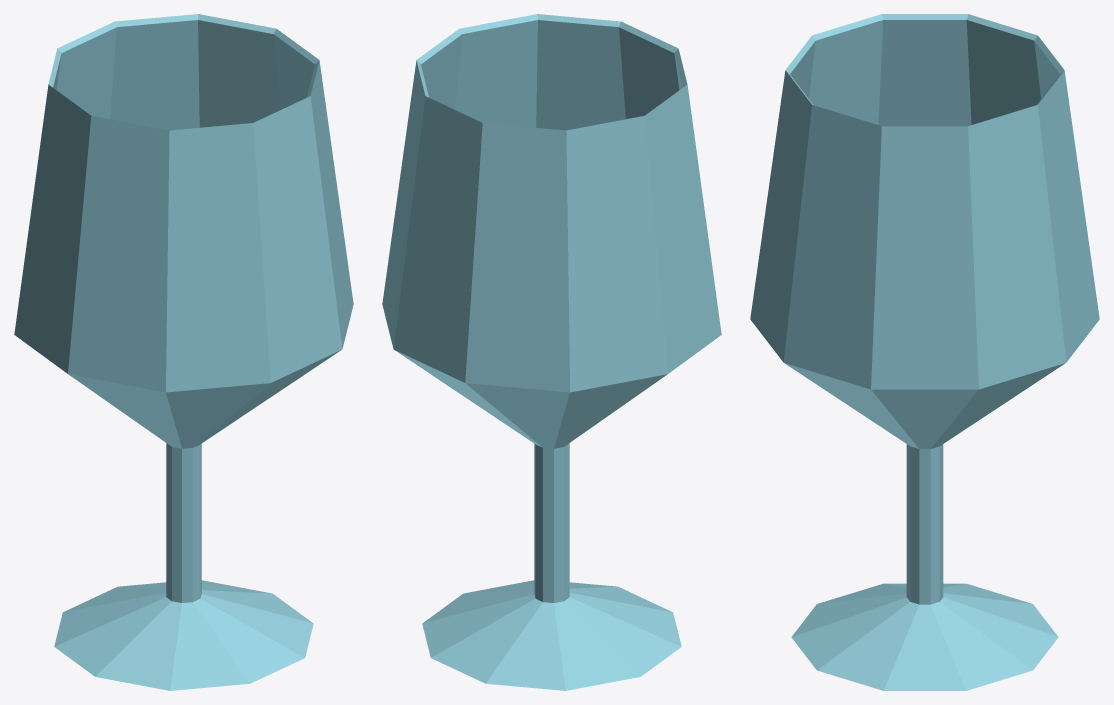
The model's file is wineglass.fbx.
3 views of the same model, side by side, from view 1: azimuth 30°, elevation 25°; view 2: azimuth 150°, elevation 25°; view 3: azimuth 270°, elevation 25° (orthographic).
Parts seen in each view (by area): view 1: wine glass; view 2: wine glass; view 3: wine glass.
Part boxes in pixels (x1=…): wine glass: x1=14, y1=14, x2=353, y2=690; wine glass: x1=382, y1=14, x2=721, y2=690; wine glass: x1=750, y1=14, x2=1099, y2=690.
Bounding box in the file's own units: 52.69 × 99.19 × 55.4.
